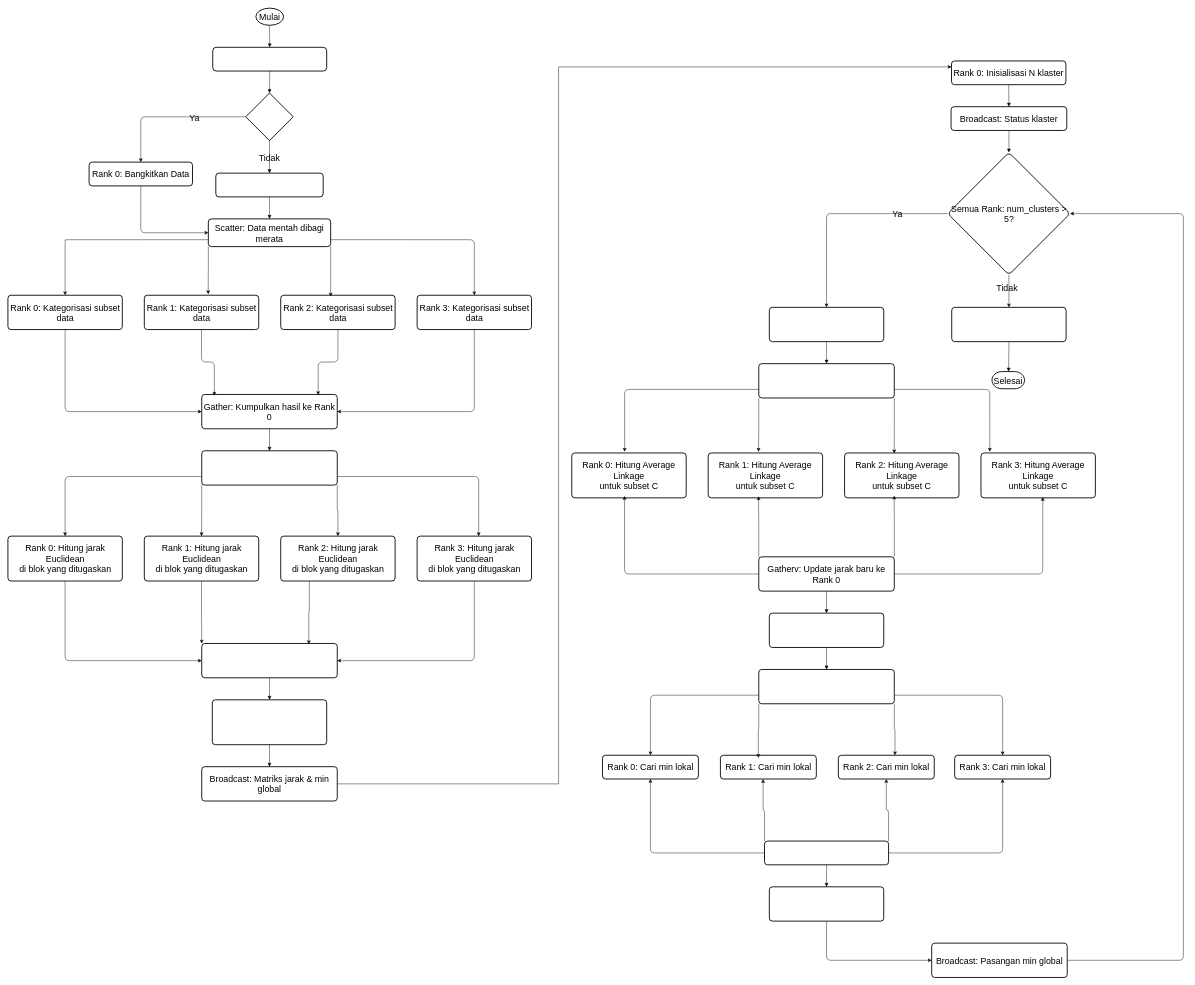
Some shapes in this 1195 by 985 pixel diagram are drawn without their labels. Each missing label, with the centre of its shape:
Broadcast: Data lengkap terkategori: (x=269, y=467)
Broadcast: Matriks jarak baru: (x=826, y=686)
Broadcast: Status klaster baru: (x=826, y=380)
Gather: Min lokal ke Rank 0: (x=826, y=852)
Gatherv + Reduce: Entri jarak & min lokal ke Rank 0: (x=269, y=660)
Rank 0: Analisis & visualisasi hasil: (x=1008, y=324)
Rank 0: Gabung klaster, update status: (x=826, y=324)
Rank 0: Perbarui matriks jarak: (x=826, y=630)
Rank 0: Susun matriks jarak, tentukan minimum global: (x=269, y=722)
Rank 0: Tentukan min global: (x=826, y=903)
Rank 0?: (x=269, y=116)
Rank lain: Menunggu data: (x=269, y=184)
Semua Rank: Inisialisasi MPI: (x=269, y=59)
